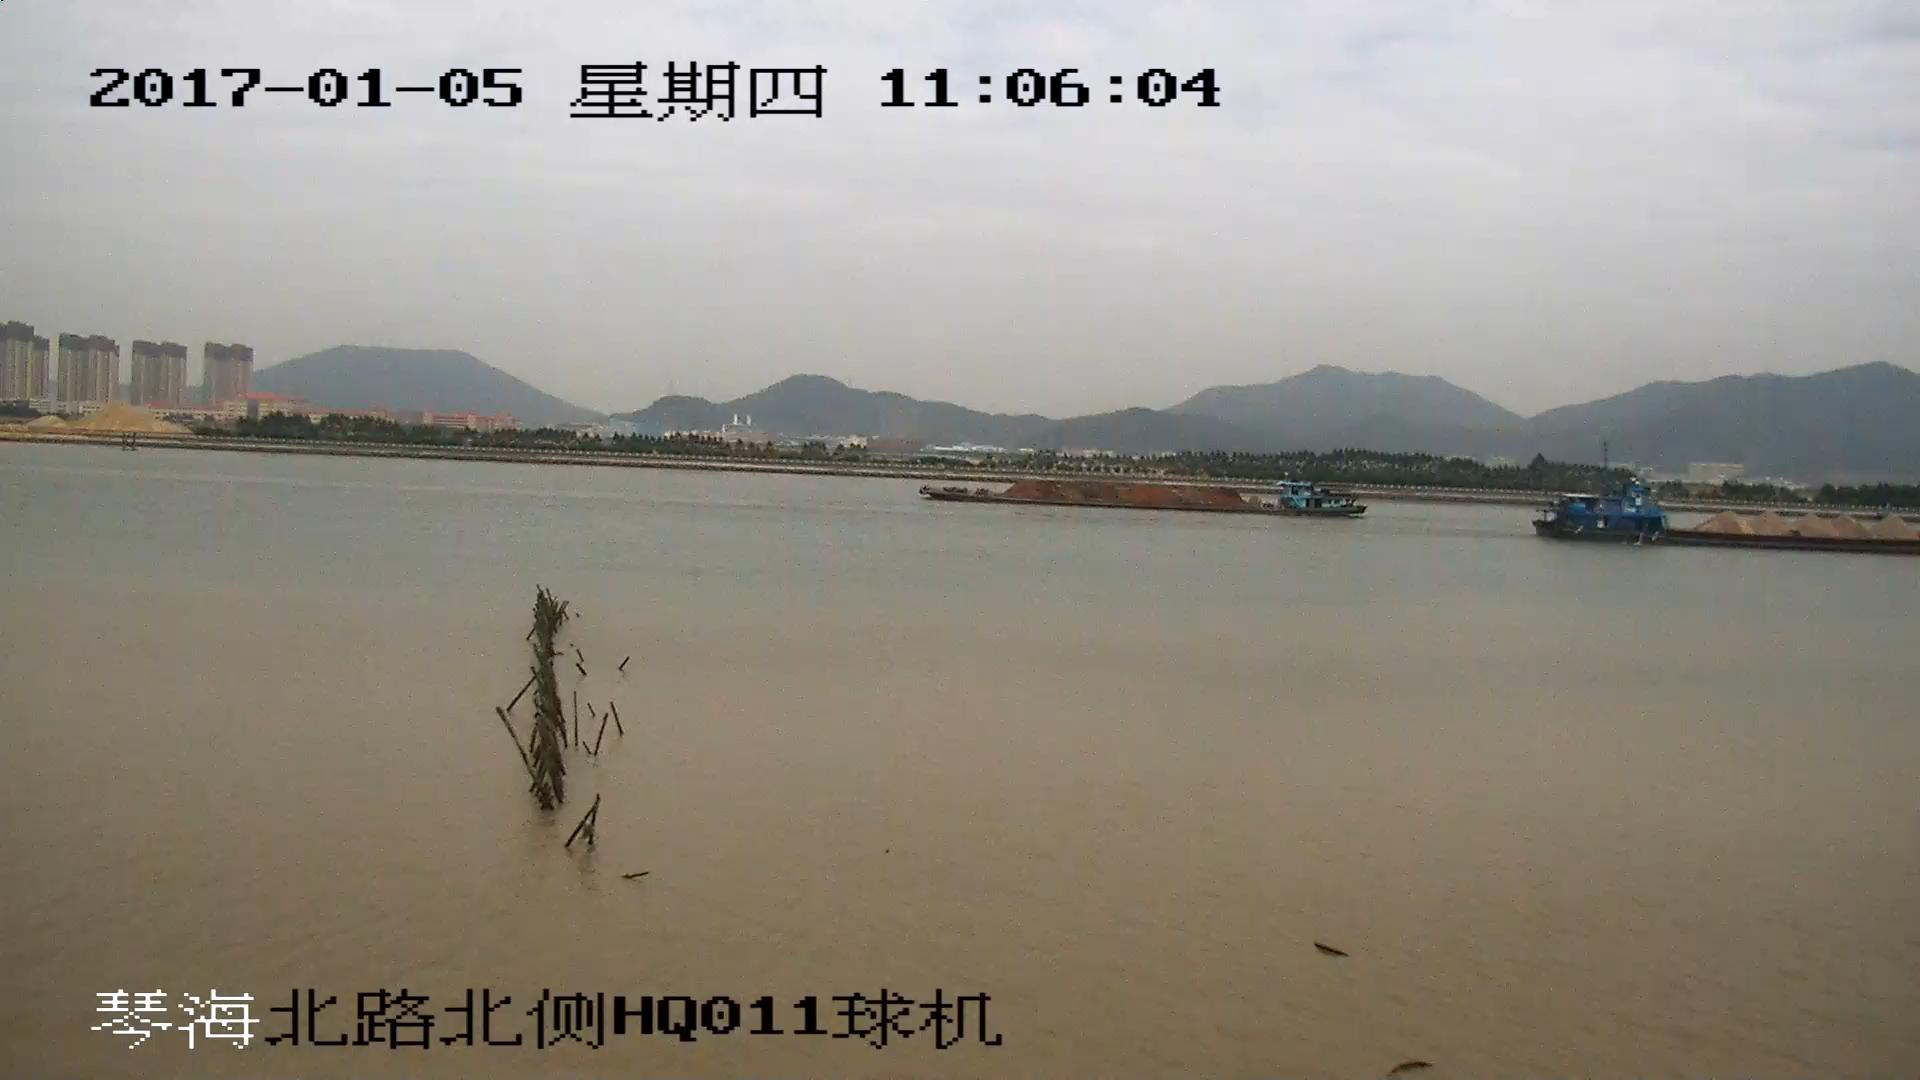ore carrier: (1544, 486, 1920, 555), (918, 470, 1368, 518)
